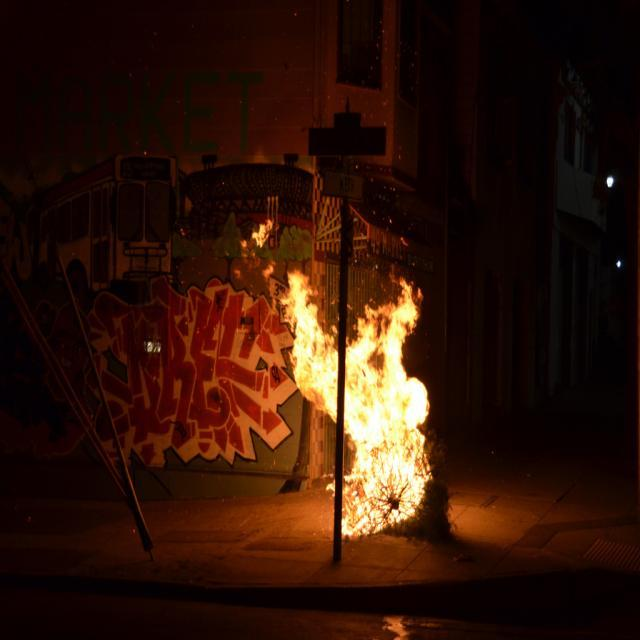Fire: (348, 316, 425, 516), (286, 296, 336, 410)
